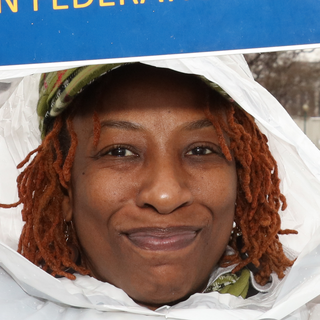eye: (178, 139, 224, 163), (91, 142, 142, 162)
